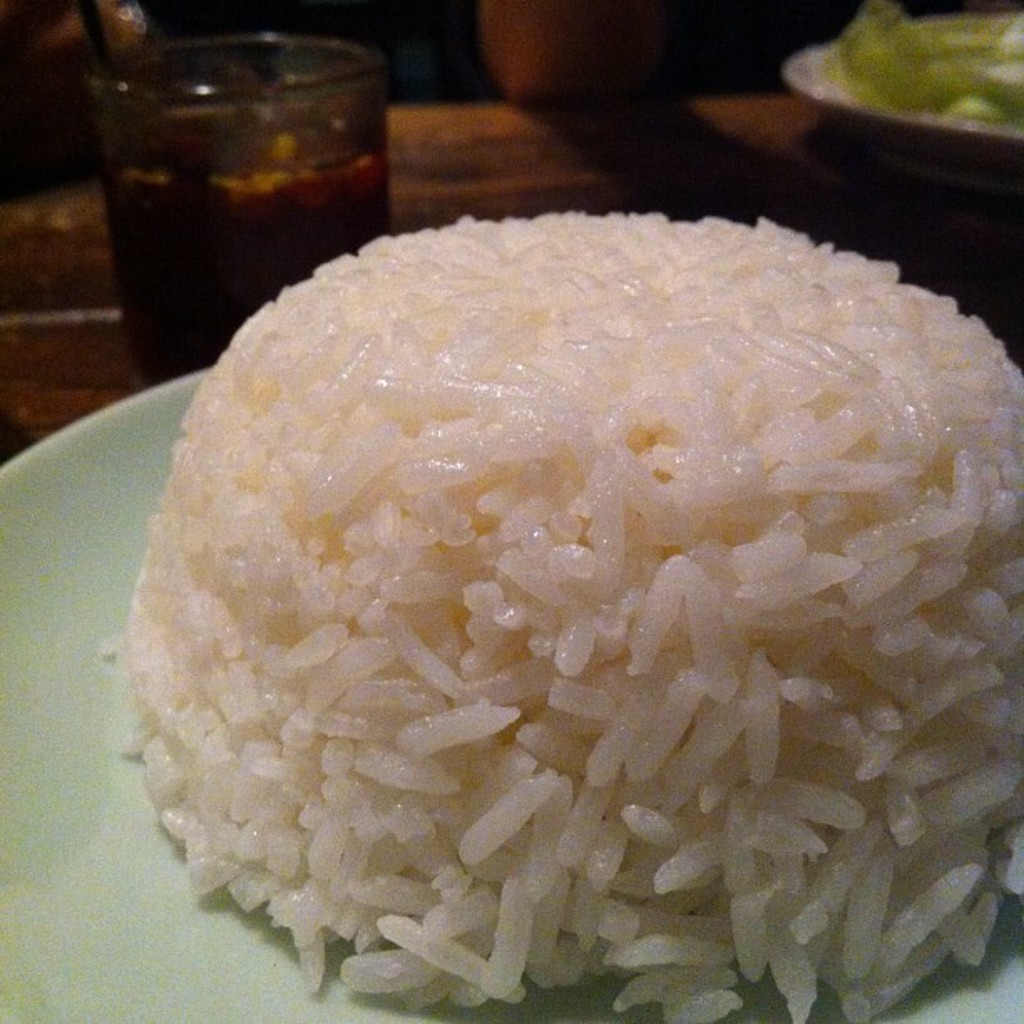person: (0, 0, 664, 117)
